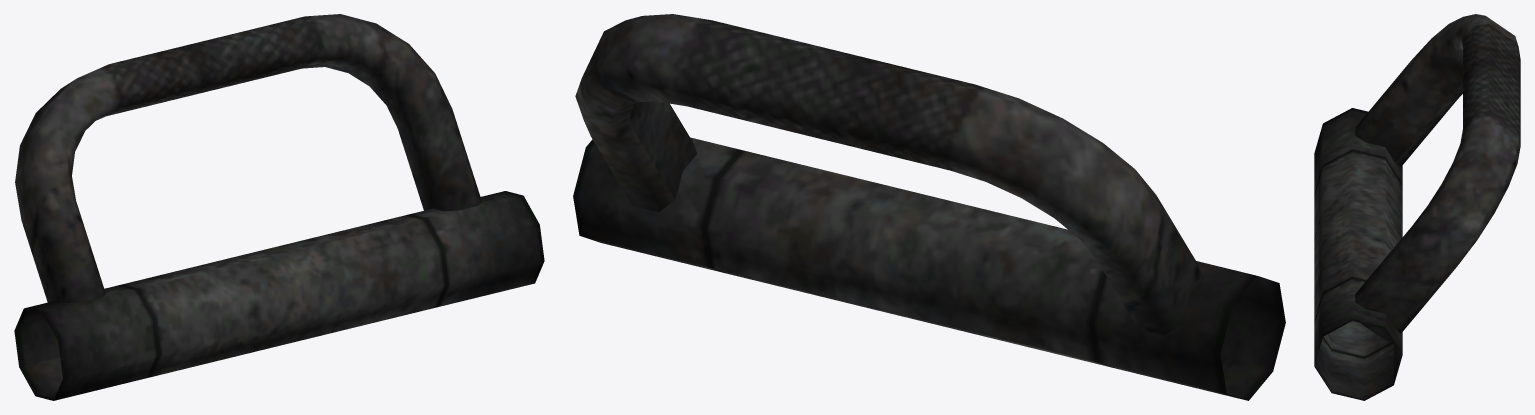
The model's file is hatch_tunnel_escape_handle.dae.
3 renders of one model, left to right at view 1: azimuth 30°, elevation 25°; view 2: azimuth 150°, elevation 25°; view 3: azimuth 270°, elevation 25°, orthographic. The views are drawn at different scales.
Visible parts, largest first — view 1: polySurface910; view 2: polySurface910; view 3: polySurface910.
Part boxes in pixels (left/top/right/bottom): polySurface910: left=14, top=14, right=544, bottom=400; polySurface910: left=573, top=14, right=1285, bottom=400; polySurface910: left=1314, top=14, right=1520, bottom=400.
Bounding box in the file's own units: 0.5064 × 0.2483 × 0.2071.
1 material, 1 textured.
